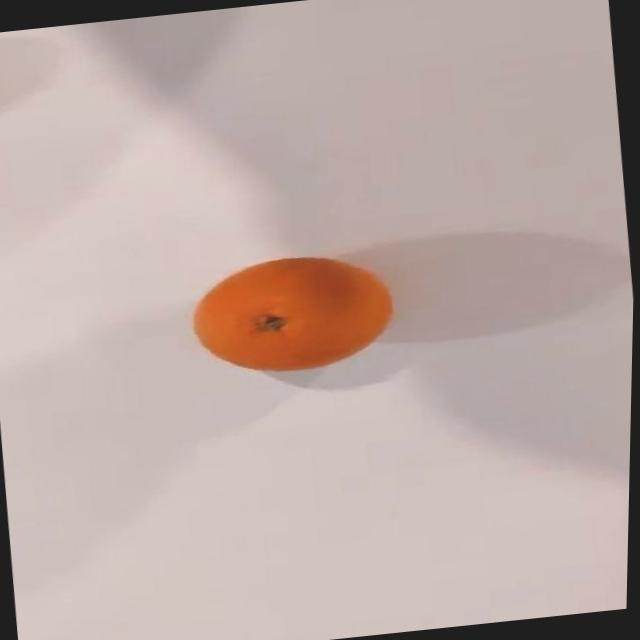Orange: (186, 247, 401, 382)
